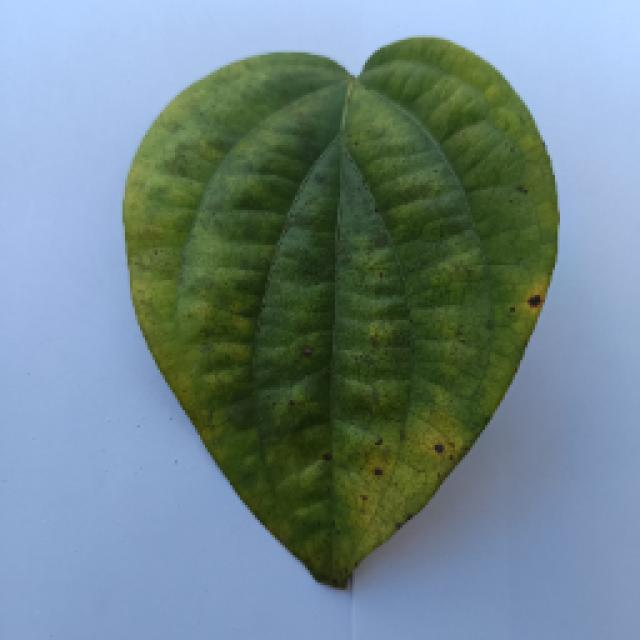slow-decline: (110, 45, 575, 610)
